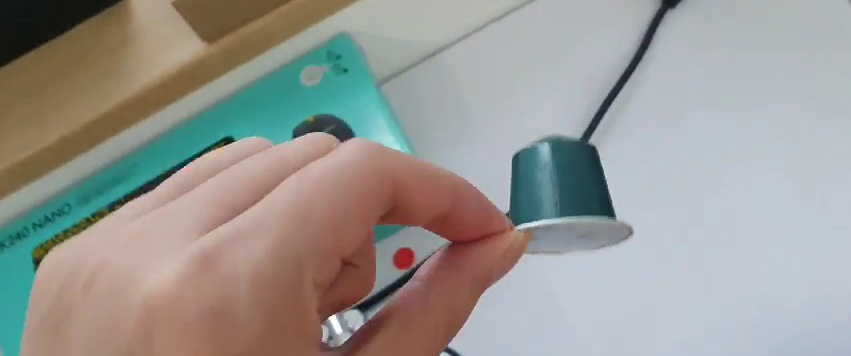capsule_13: (495, 133, 637, 256)
